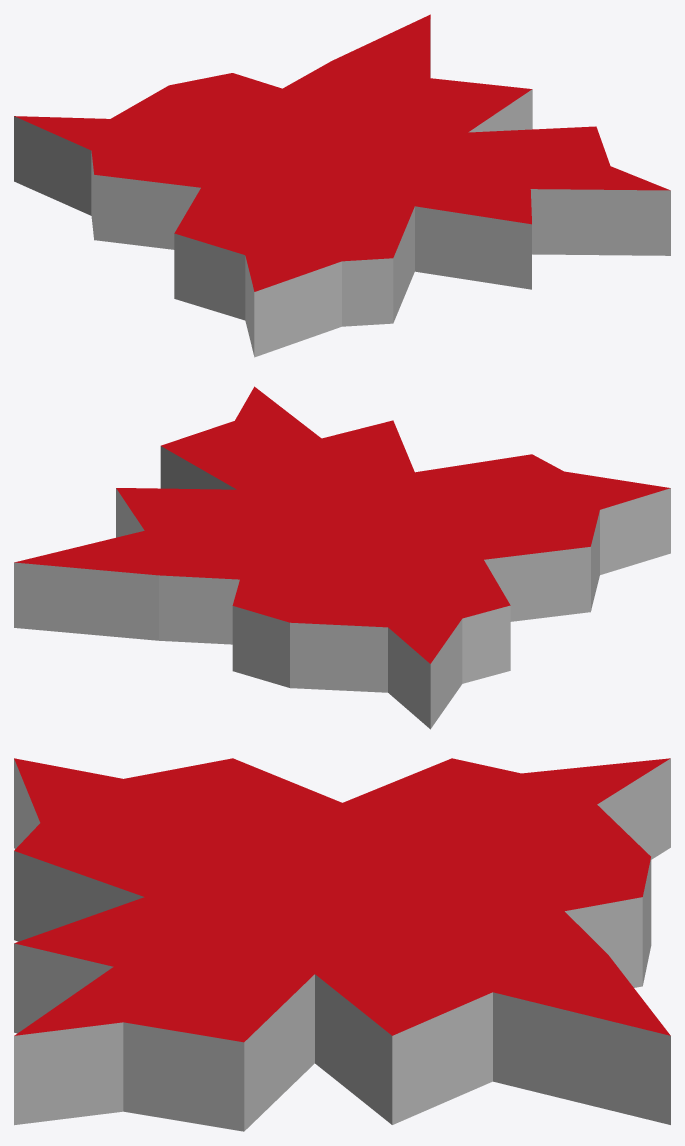
The model's file is hole3.fbx.
3 views of the same model, one above another, from view 1: azimuth 30°, elevation 25°; view 2: azimuth 150°, elevation 25°; view 3: azimuth 270°, elevation 25° (orthographic). The views are drawn at different scales.
Visible parts, largest first — view 1: Grid; view 2: Grid; view 3: Grid.
Boxes of the visible parts, x1,y1,x2,y2 form: Grid: [14, 14, 670, 357]; Grid: [14, 386, 670, 729]; Grid: [14, 758, 670, 1131].
Size of the model in its own units: 68.22 by 10 by 66.67.
